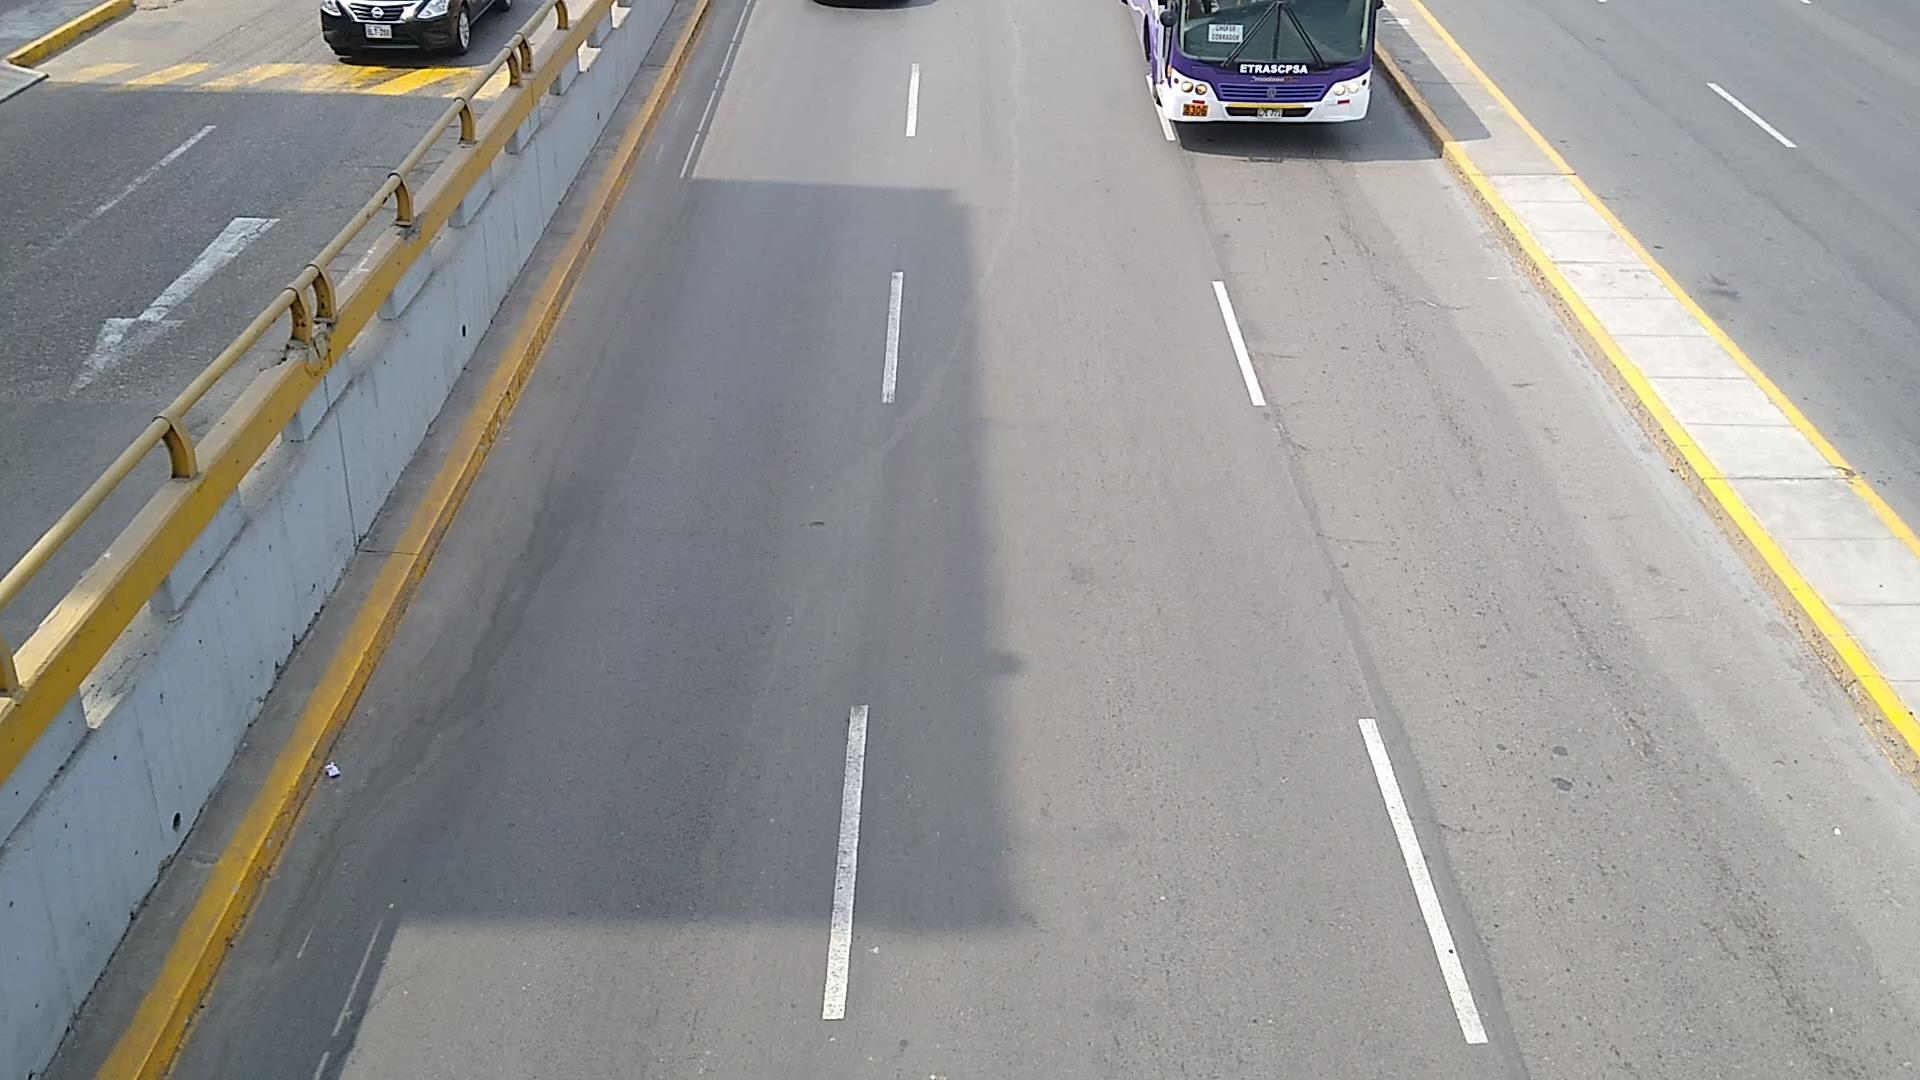bus: (1125, 0, 1378, 124)
car: (319, 0, 510, 61)
